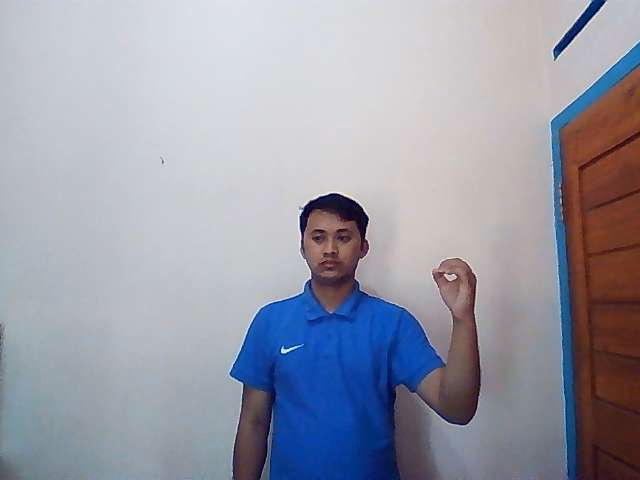O: (433, 257, 480, 316)
